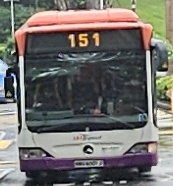bus: (63, 31, 106, 49)
